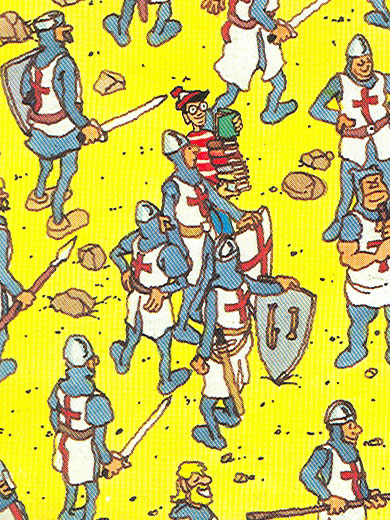waldo: (171, 85, 209, 128)
